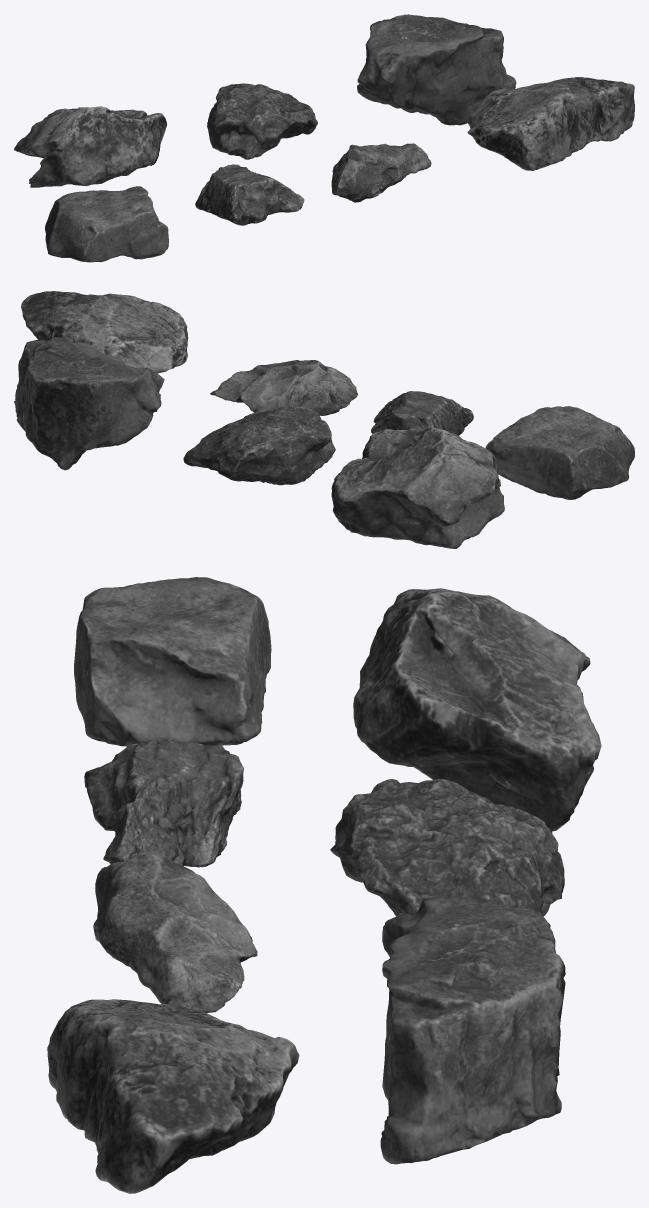
The model's file is rocks2.glb.
The picture shows the model from 3 angles, top to bottom: view 1: azimuth 30°, elevation 25°; view 2: azimuth 150°, elevation 25°; view 3: azimuth 270°, elevation 25°; orthographic projection. The views are drawn at different scales.
Visible parts, largest first — view 1: rock_moss_set_02_rock13, rock_moss_set_02_rock10, rock_moss_set_02_rock11, rock_moss_set_02_rock07, rock_moss_set_02_rock12, rock_moss_set_02_rock08, rock_moss_set_02_rock09; view 2: rock_moss_set_02_rock11, rock_moss_set_02_rock13, rock_moss_set_02_rock07, rock_moss_set_02_rock10, rock_moss_set_02_rock12, rock_moss_set_02_rock09, rock_moss_set_02_rock08; view 3: rock_moss_set_02_rock13, rock_moss_set_02_rock11, rock_moss_set_02_rock10, rock_moss_set_02_rock07, rock_moss_set_02_rock12, rock_moss_set_02_rock09, rock_moss_set_02_rock08.
Boxes of the visible parts, x1=… form: rock_moss_set_02_rock13: x1=357, y1=14, x2=516, y2=125; rock_moss_set_02_rock10: x1=467, y1=77, x2=634, y2=170; rock_moss_set_02_rock11: x1=14, y1=106, x2=166, y2=187; rock_moss_set_02_rock07: x1=45, y1=186, x2=168, y2=262; rock_moss_set_02_rock12: x1=207, y1=83, x2=317, y2=159; rock_moss_set_02_rock08: x1=195, y1=164, x2=304, y2=225; rock_moss_set_02_rock09: x1=331, y1=143, x2=431, y2=202; rock_moss_set_02_rock11: x1=331, y1=427, x2=504, y2=548; rock_moss_set_02_rock13: x1=14, y1=337, x2=164, y2=470; rock_moss_set_02_rock07: x1=485, y1=406, x2=634, y2=499; rock_moss_set_02_rock10: x1=21, y1=291, x2=188, y2=373; rock_moss_set_02_rock12: x1=183, y1=406, x2=335, y2=485; rock_moss_set_02_rock09: x1=210, y1=360, x2=357, y2=415; rock_moss_set_02_rock08: x1=371, y1=391, x2=473, y2=435; rock_moss_set_02_rock13: x1=380, y1=895, x2=565, y2=1164; rock_moss_set_02_rock11: x1=353, y1=588, x2=601, y2=833; rock_moss_set_02_rock10: x1=47, y1=999, x2=299, y2=1193; rock_moss_set_02_rock07: x1=74, y1=577, x2=271, y2=746; rock_moss_set_02_rock12: x1=330, y1=779, x2=564, y2=927; rock_moss_set_02_rock09: x1=93, y1=851, x2=257, y2=1013; rock_moss_set_02_rock08: x1=84, y1=741, x2=243, y2=867.
Size of the model in its own units: 8.28 by 1.37 by 3.41.
Materials: 1 (1 with a texture image).
